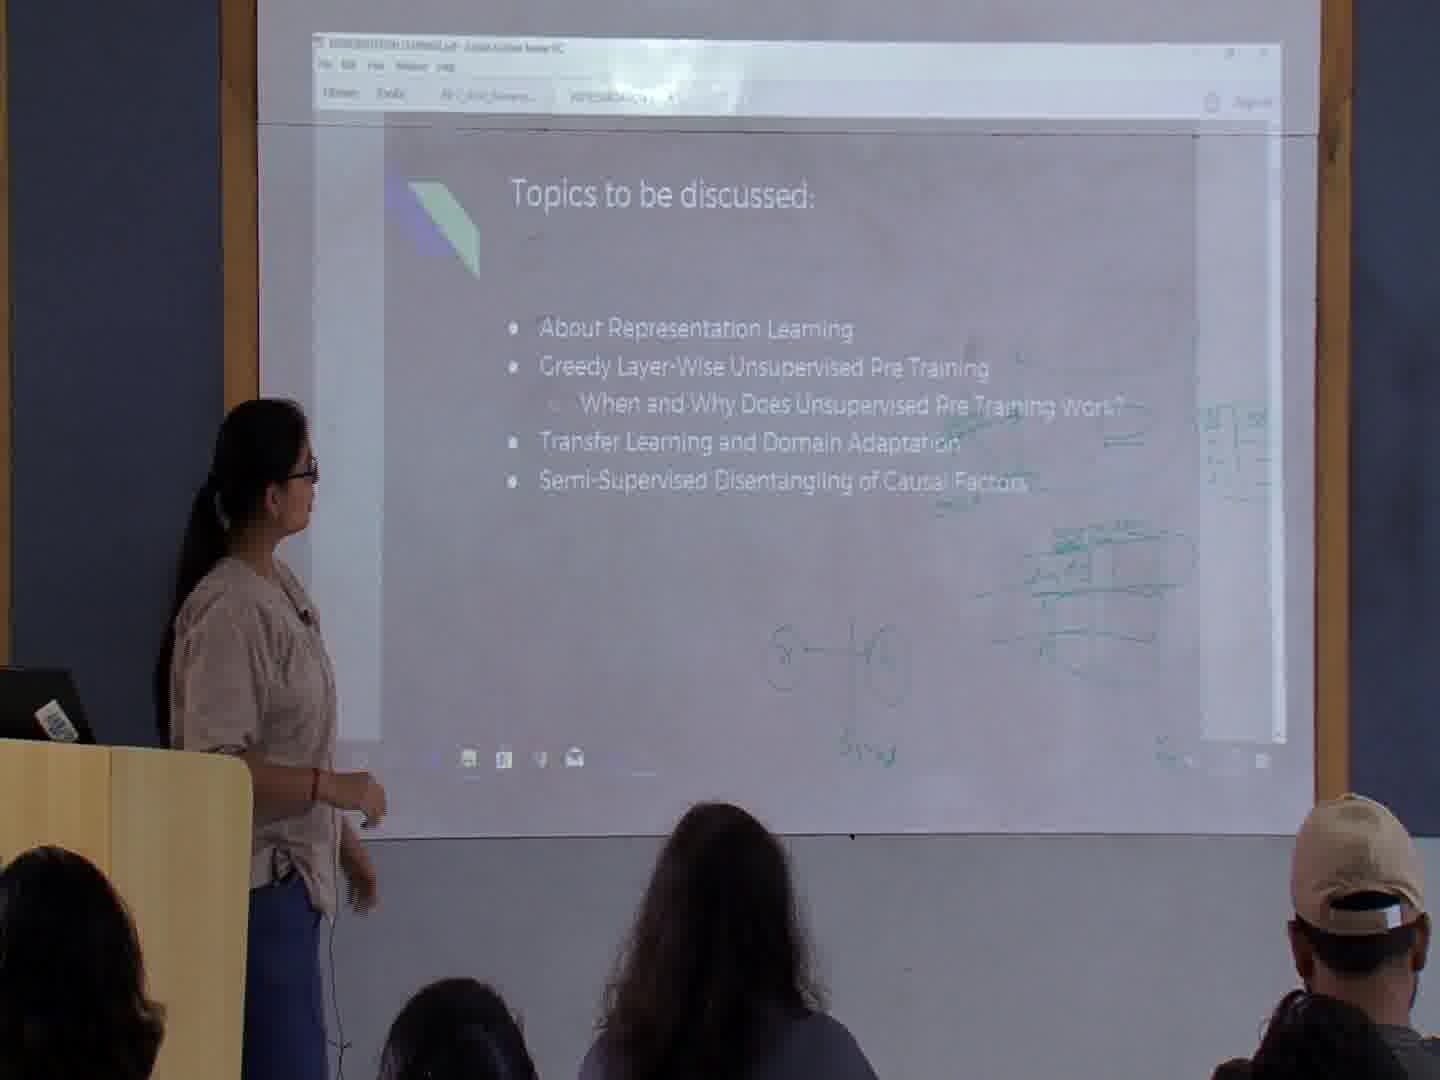slide: (314, 33, 1287, 778)
